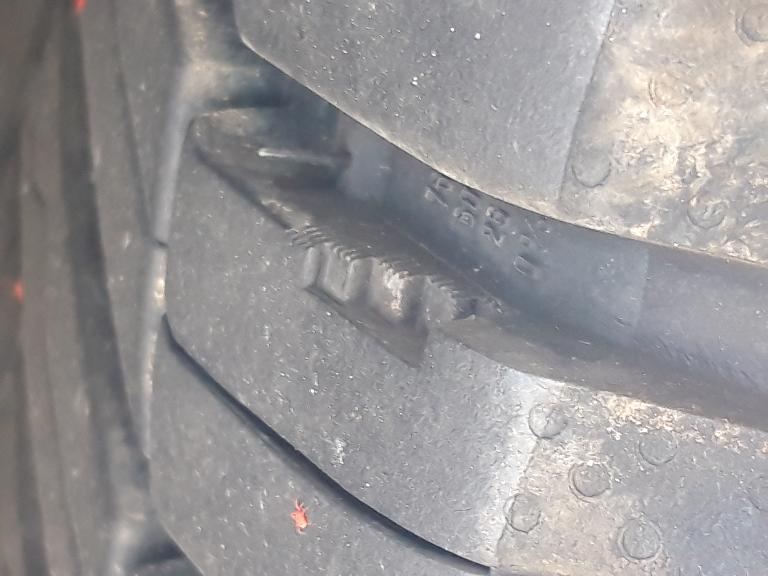temoin:90: (276, 208, 533, 382)
